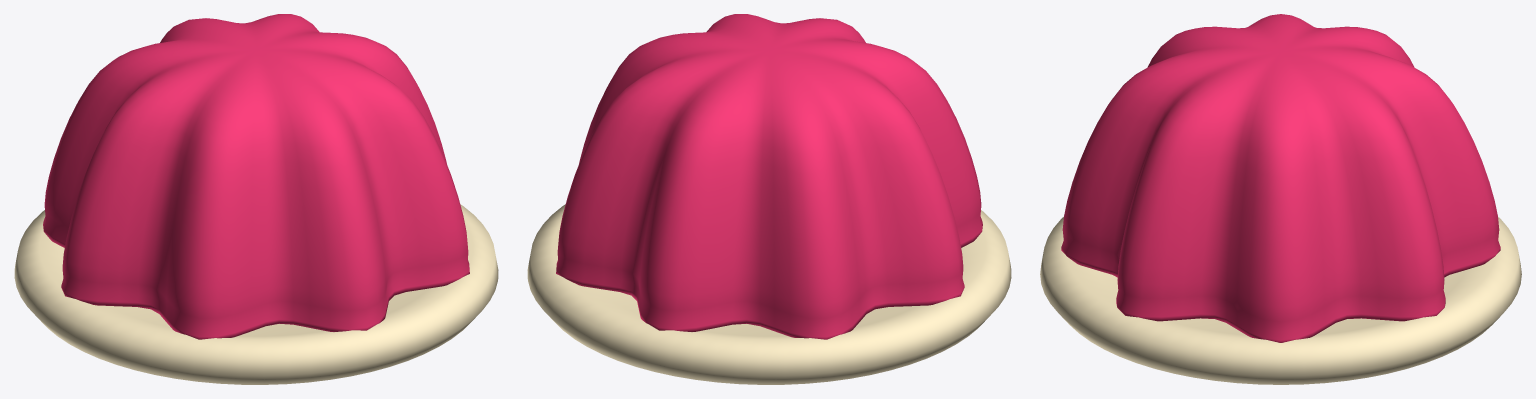
File: jelly_bumper.glb
3 views of the same model, side by side, from view 1: azimuth 30°, elevation 25°; view 2: azimuth 150°, elevation 25°; view 3: azimuth 270°, elevation 25° (orthographic).
Visible parts, largest first — view 1: Eight_lobed_strawberry_jelly, Jelly_vanilla_saucer; view 2: Eight_lobed_strawberry_jelly, Jelly_vanilla_saucer; view 3: Eight_lobed_strawberry_jelly, Jelly_vanilla_saucer.
Boxes of the visible parts, left/top/right/bottom form: Eight_lobed_strawberry_jelly: left=43, top=14, right=469, bottom=339; Jelly_vanilla_saucer: left=14, top=204, right=498, bottom=384; Eight_lobed_strawberry_jelly: left=556, top=14, right=982, bottom=339; Jelly_vanilla_saucer: left=527, top=204, right=1011, bottom=384; Eight_lobed_strawberry_jelly: left=1061, top=14, right=1500, bottom=342; Jelly_vanilla_saucer: left=1040, top=217, right=1521, bottom=384.
Bounding box in the file's own units: 1.54 × 0.885 × 1.54.
